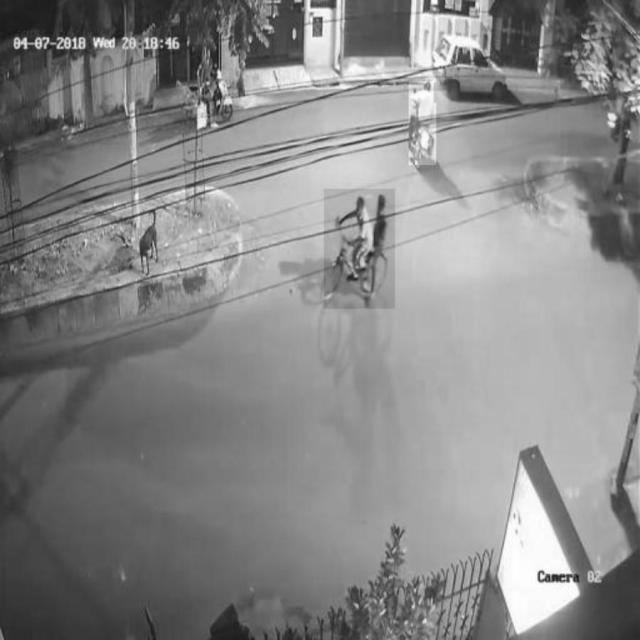vehicle: (324, 189, 395, 309), (434, 33, 508, 103), (189, 46, 234, 129), (410, 82, 437, 165)
